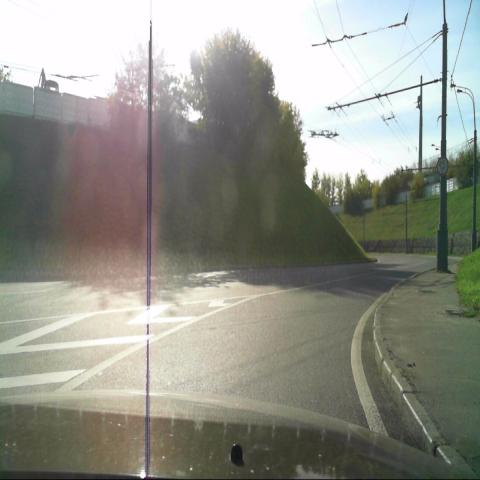3_13: (436, 154, 450, 179)
